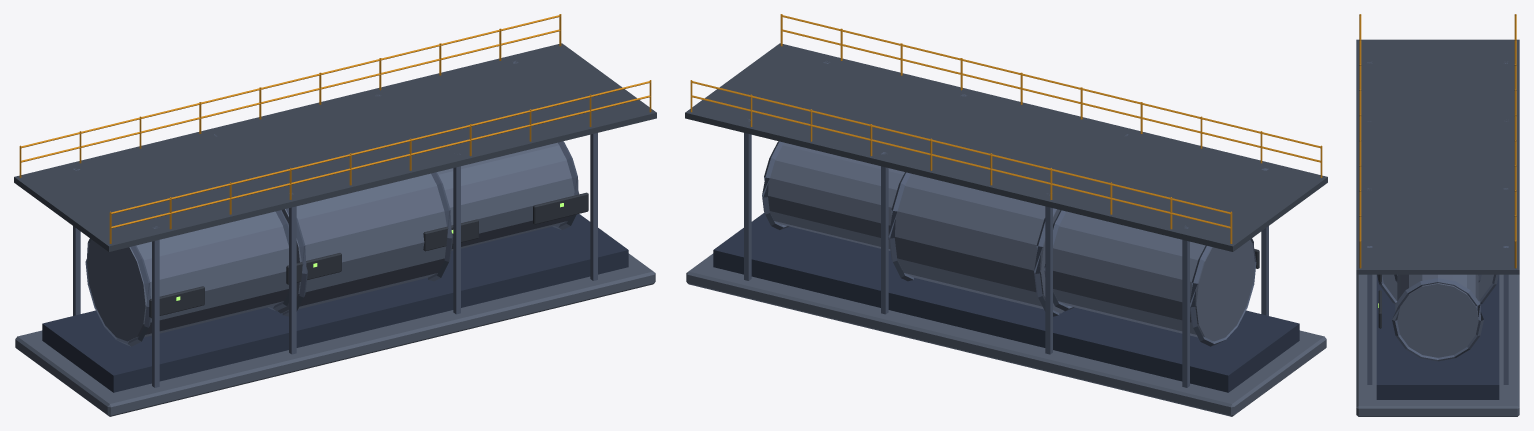
The model's file is power_turbine_housing.glb.
The picture shows the model from 3 angles, left to right: view 1: azimuth 30°, elevation 25°; view 2: azimuth 150°, elevation 25°; view 3: azimuth 270°, elevation 25°; orthographic projection. The views are drawn at different scales.
Visible parts, largest first — view 1: turbine_hall_floor, machine, trim, concrete_raw_cast, metal, hivis, container_graphite; view 2: turbine_hall_floor, machine, trim, concrete_raw_cast, metal, hivis; view 3: turbine_hall_floor, trim, concrete_raw_cast, machine, metal, hivis, container_graphite.
Boxes of the visible parts, x1,y1,x2,y2 form: turbine_hall_floor: (14, 43, 656, 251); machine: (87, 142, 574, 341); trim: (42, 214, 628, 392); concrete_raw_cast: (15, 253, 655, 416); metal: (73, 61, 597, 387); hivis: (19, 14, 651, 243); container_graphite: (149, 192, 588, 318); turbine_hall_floor: (685, 43, 1327, 251); machine: (768, 142, 1254, 341); trim: (713, 212, 1299, 392); concrete_raw_cast: (686, 253, 1326, 416); metal: (744, 61, 1268, 387); hivis: (690, 14, 1322, 243); turbine_hall_floor: (1356, 39, 1519, 274); trim: (1376, 275, 1499, 399); concrete_raw_cast: (1356, 274, 1519, 416); machine: (1382, 274, 1493, 357); metal: (1367, 61, 1508, 384); hivis: (1359, 14, 1516, 268); container_graphite: (1378, 274, 1381, 328).
Size of the model in its own units: 20 by 7.1 by 6.
